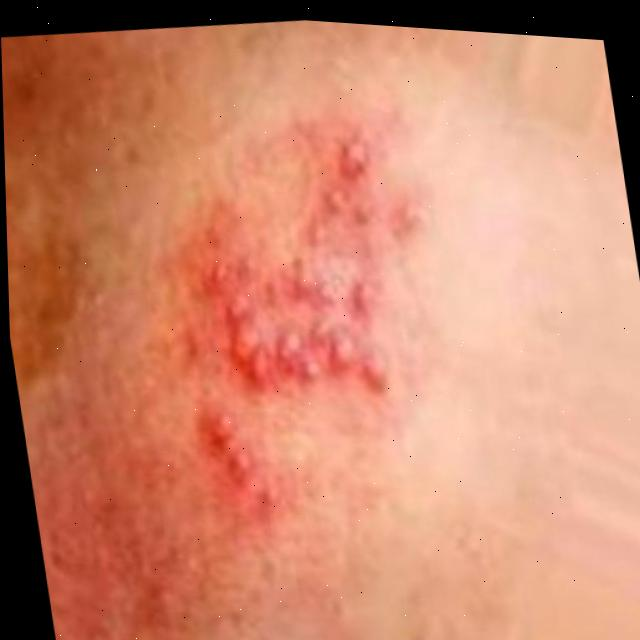Shingles: (162, 123, 459, 494)
